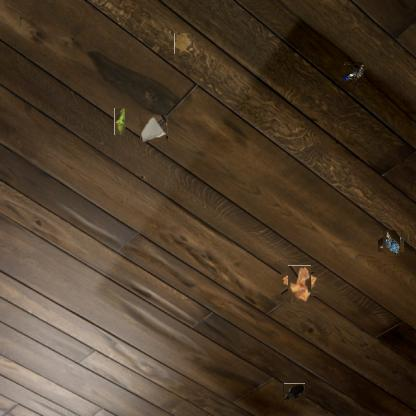dirty: (284, 269, 315, 299), (141, 115, 168, 142), (380, 232, 402, 254), (342, 64, 364, 85), (114, 107, 125, 135)
liquid: (174, 32, 193, 54), (283, 383, 305, 400)
